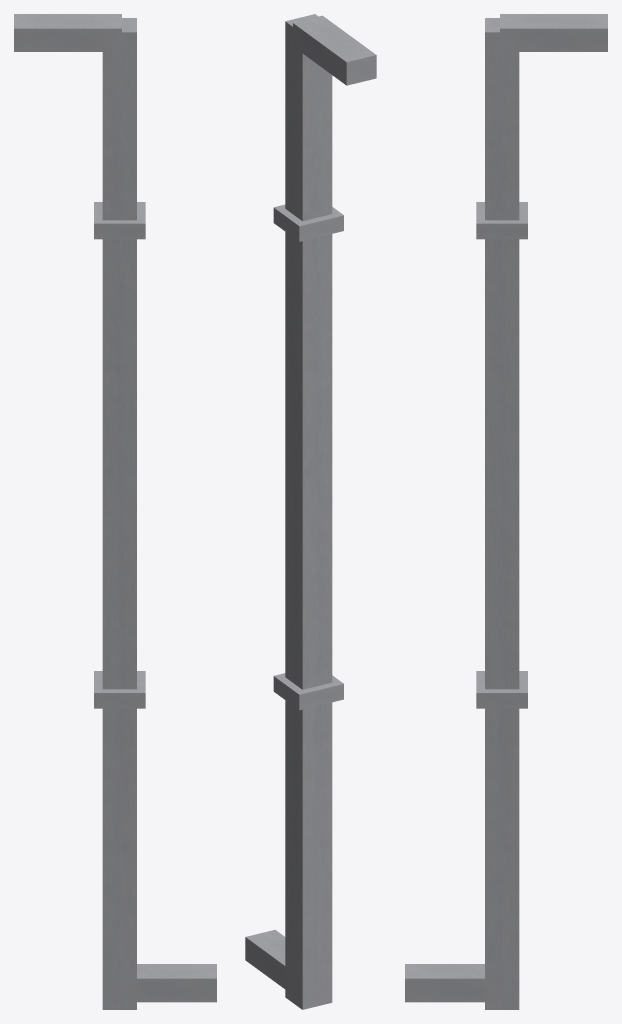
The model's file is Downpipe.fbx.
The picture shows the model from 3 angles, left to right: view 1: azimuth 90°, elevation 25°; view 2: azimuth 210°, elevation 25°; view 3: azimuth 270°, elevation 25°; orthographic projection.
Visible parts, largest first — view 1: Downpipe; view 2: Downpipe; view 3: Downpipe.
Part boxes in pixels (x1,y1,x2,y2): Downpipe: (14, 14, 216, 1009); Downpipe: (245, 14, 376, 1009); Downpipe: (405, 14, 607, 1009).
Bounding box in the file's own units: 0.12 × 2.51 × 0.47.
